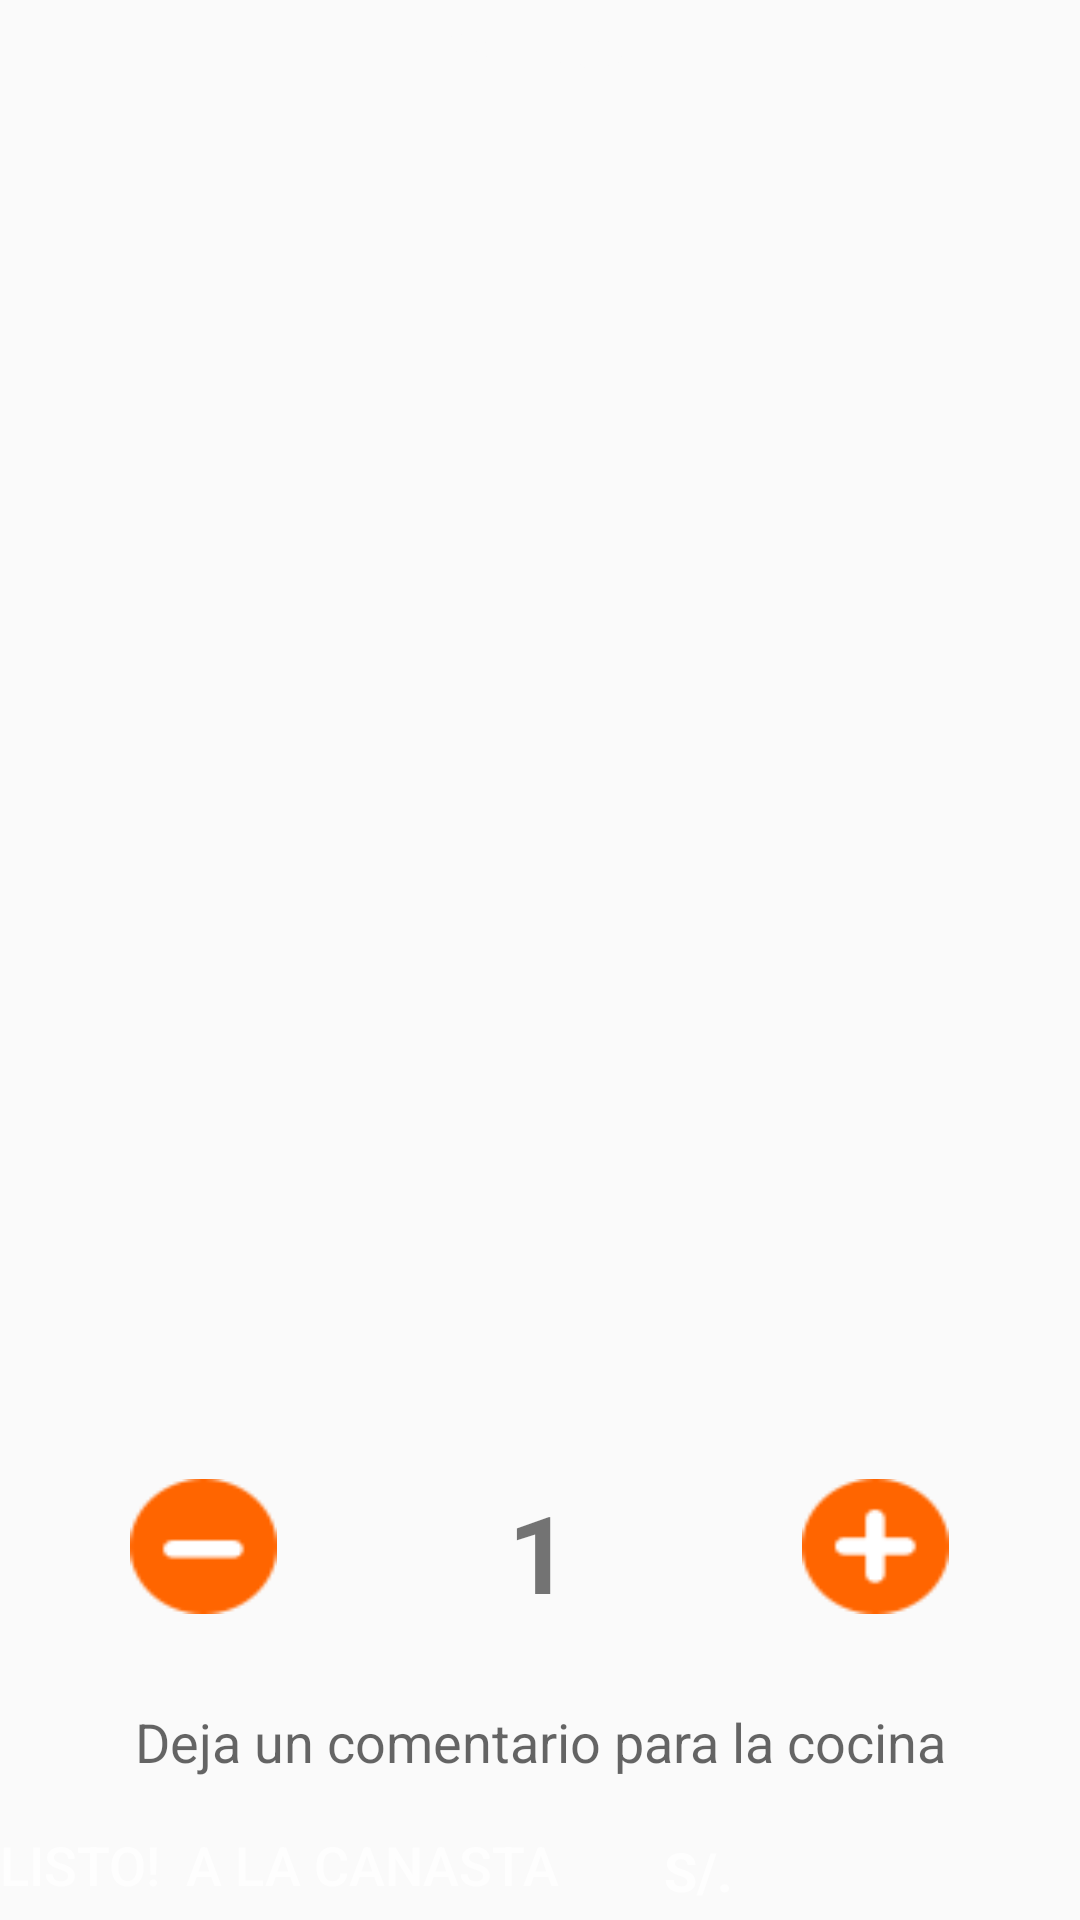

Icons on this 1080x1920 Android screen, each with its box as (x1, y1, x2, y2):
mas: (802, 1479, 949, 1614)
menos: (130, 1479, 277, 1614)
